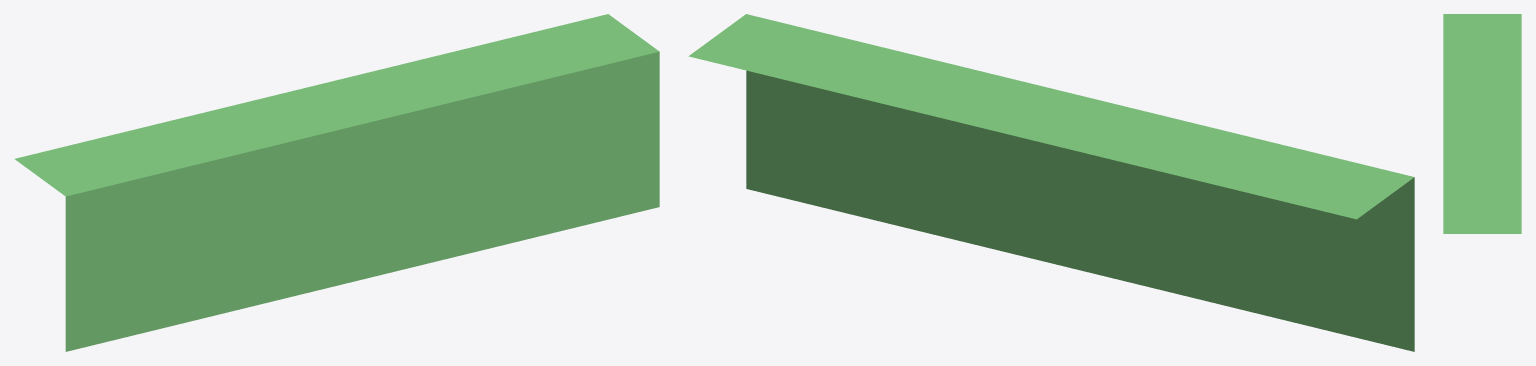
File: Bld3_Base_Mid.fbx
3 renders of one model, left to right at view 1: azimuth 30°, elevation 25°; view 2: azimuth 150°, elevation 25°; view 3: azimuth 270°, elevation 25°, orthographic. The views are drawn at different scales.
Visible parts, largest first — view 1: Bld3_Base_Mid; view 2: Bld3_Base_Mid; view 3: Bld3_Base_Mid.
Boxes of the visible parts, x1=… form: Bld3_Base_Mid: x1=15, y1=14, x2=659, y2=351; Bld3_Base_Mid: x1=688, y1=14, x2=1414, y2=351; Bld3_Base_Mid: x1=1443, y1=14, x2=1521, y2=233.
Size of the model in its own units: 600 by 150 by 90.
